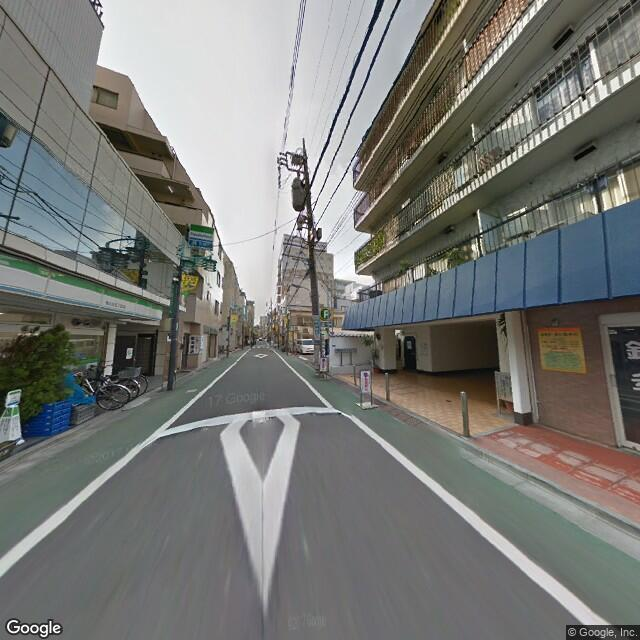family_mart: (1, 253, 163, 323), (187, 221, 216, 253)
